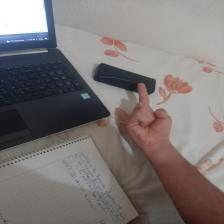one: (120, 81, 178, 158)
